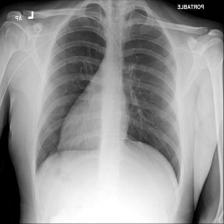normal: (31, 1, 186, 190)
